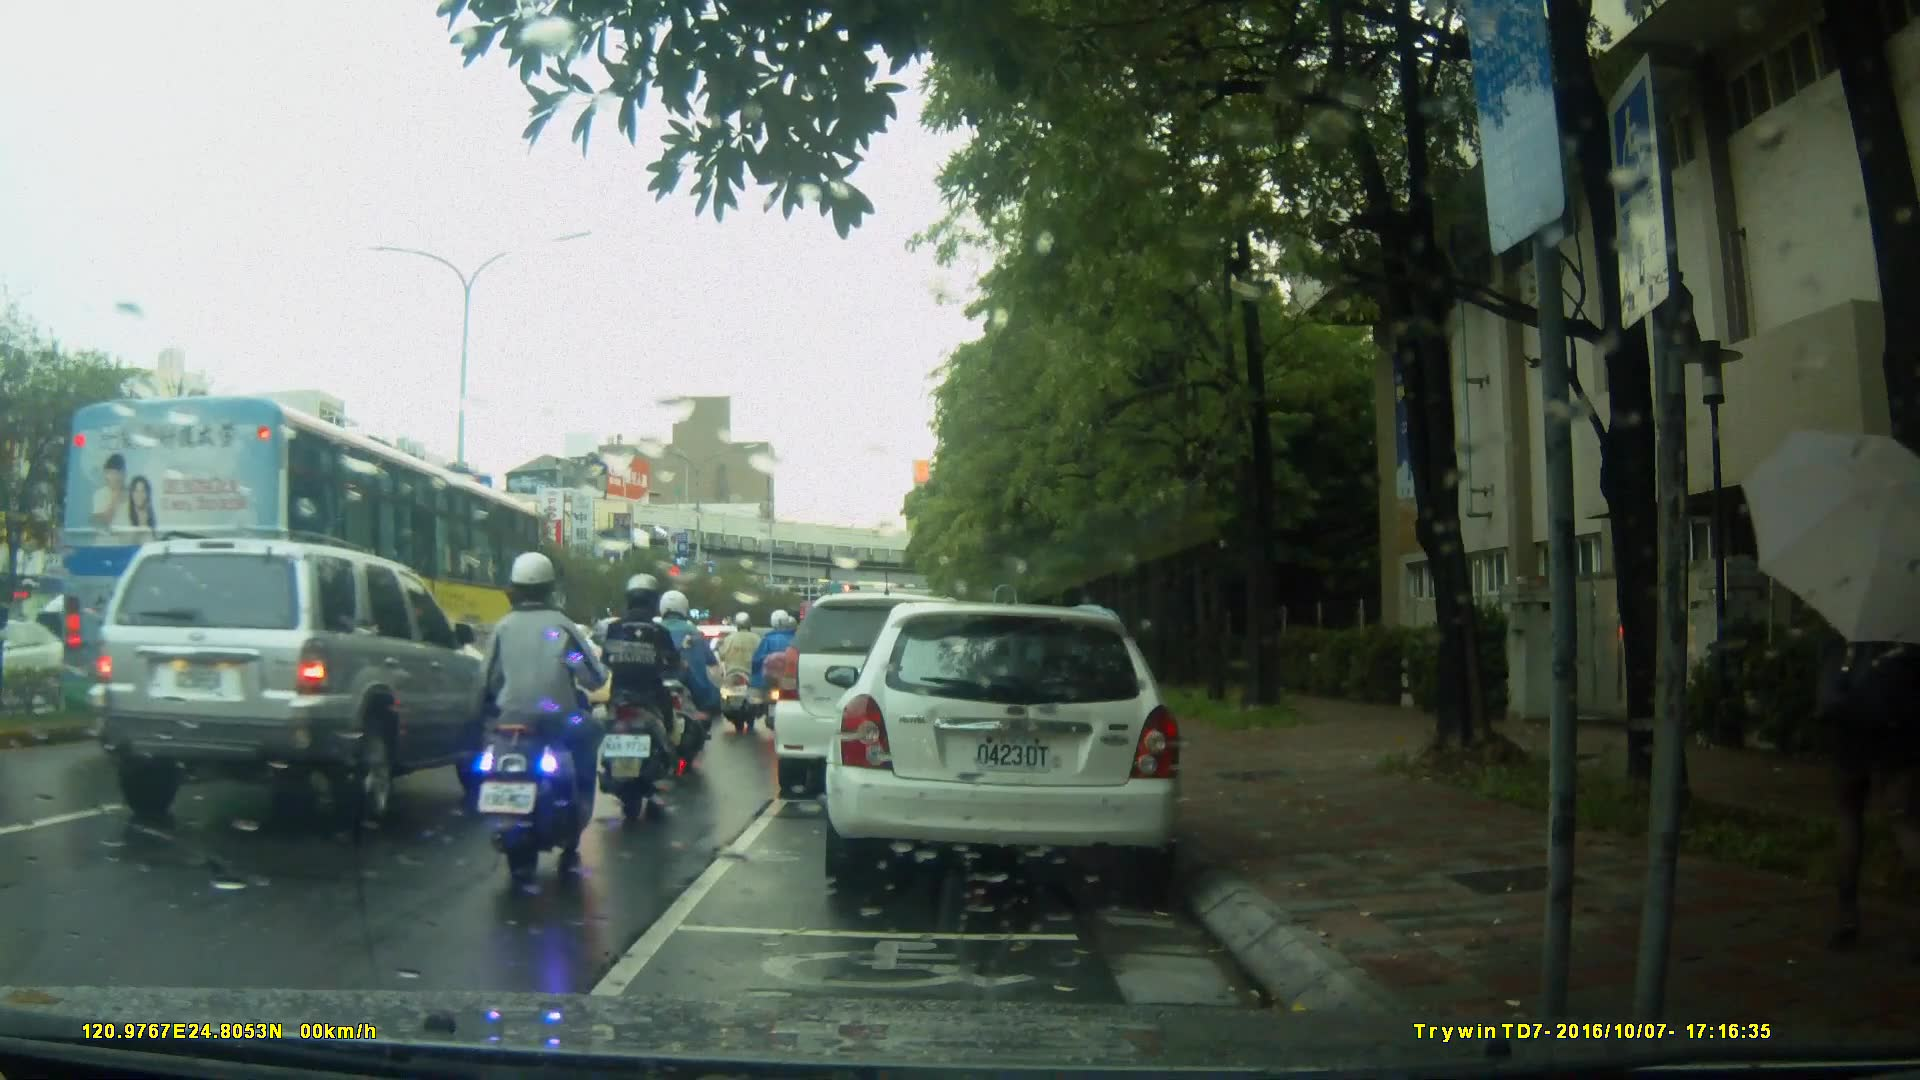rider: (466, 548, 611, 886), (598, 570, 687, 818), (644, 587, 726, 766), (714, 610, 774, 732), (754, 612, 814, 730)
vehicle: (50, 394, 553, 758), (81, 530, 501, 831), (835, 594, 1194, 898), (776, 590, 1026, 784)
